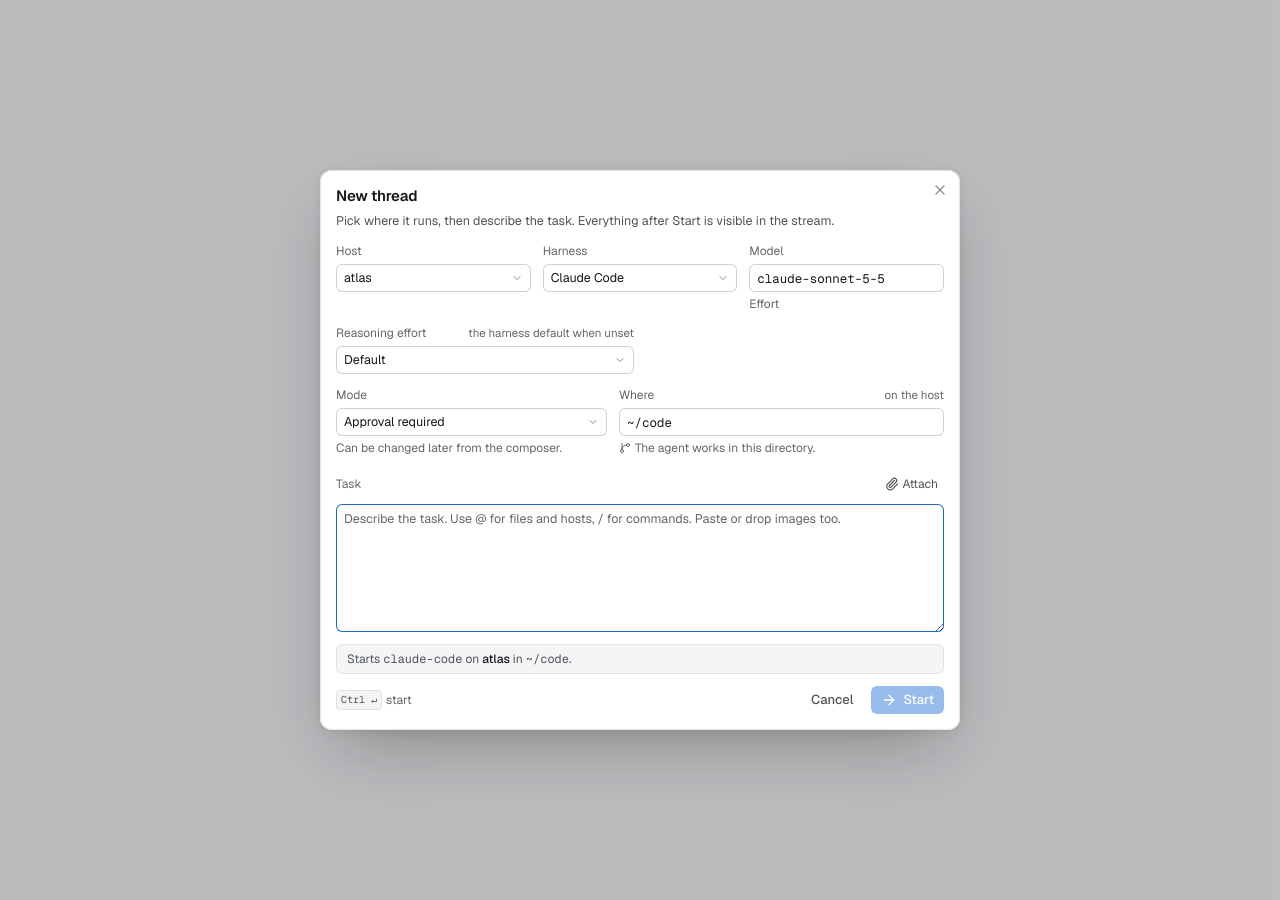
it: NewThreadDialog drafts › offers only the approval modes the agent actually advertises
Press the mouse on the button with aria-label "Harness: Claude Code": (640, 278) [543,264,737,292]
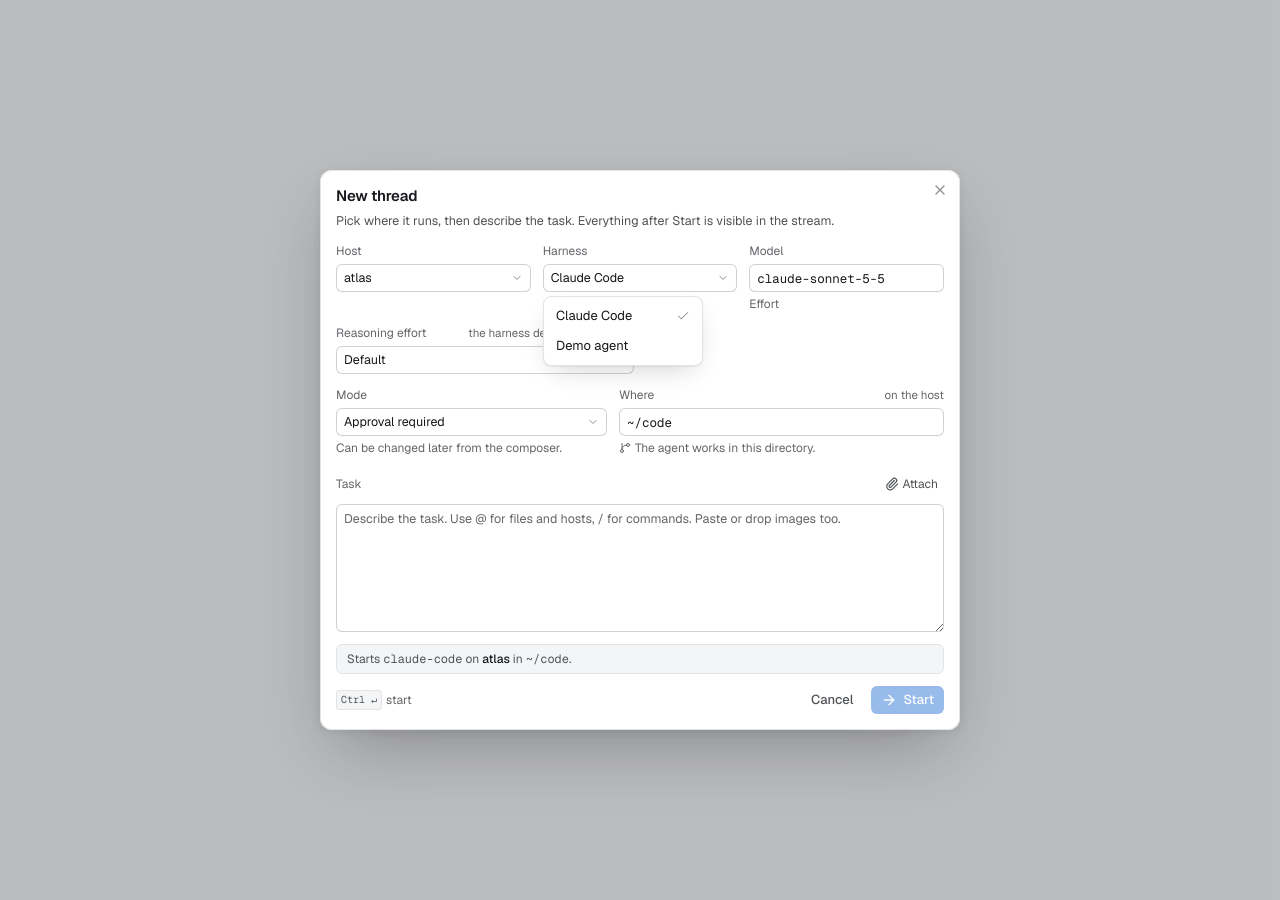
Click the menu item "Demo agent": (592, 346) [556,337,628,354]
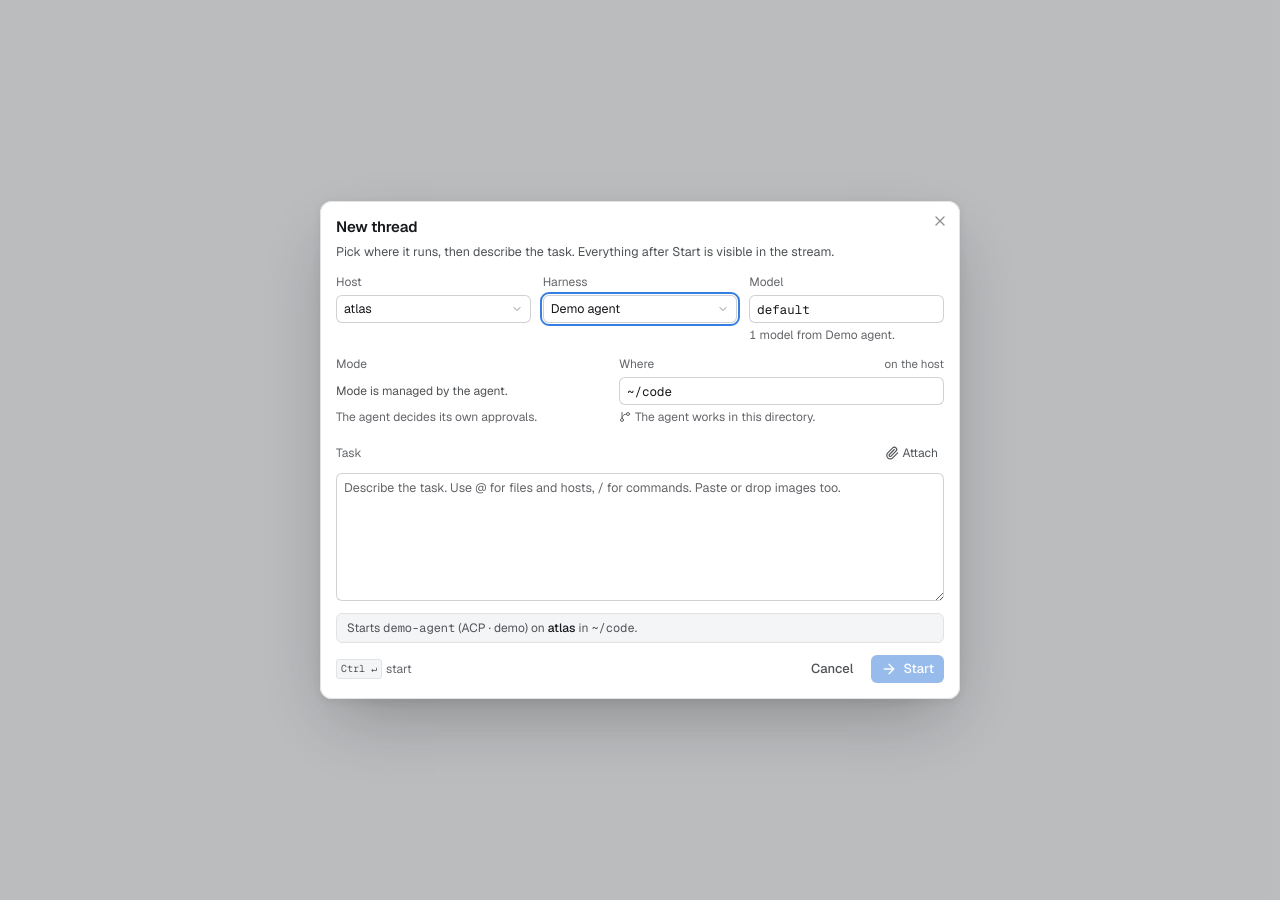
Now the text "Mode is managed by the agent." is shown, box [336,383,508,399]
Now the text "Can be changed later from the composer." is gone
